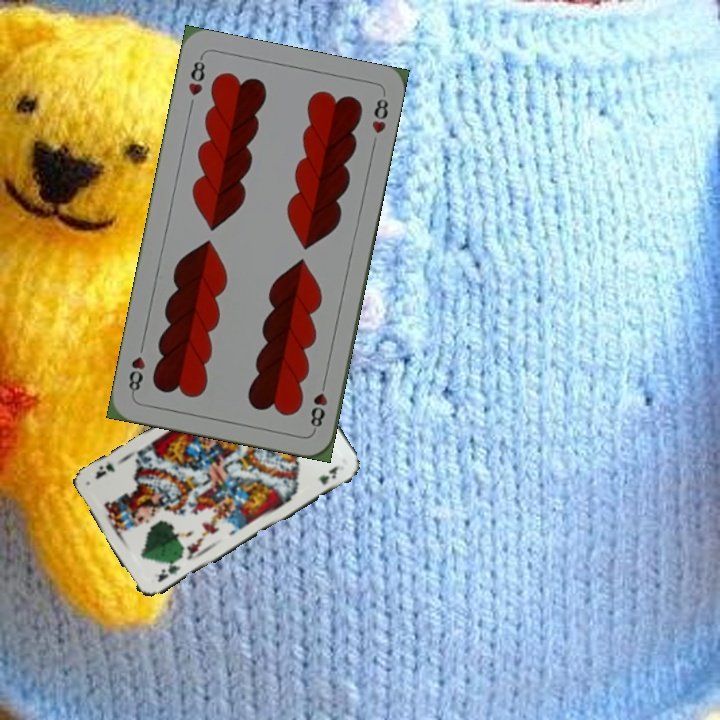GK: (153, 555, 183, 585)
H8: (306, 374, 330, 433), (184, 53, 208, 98)
